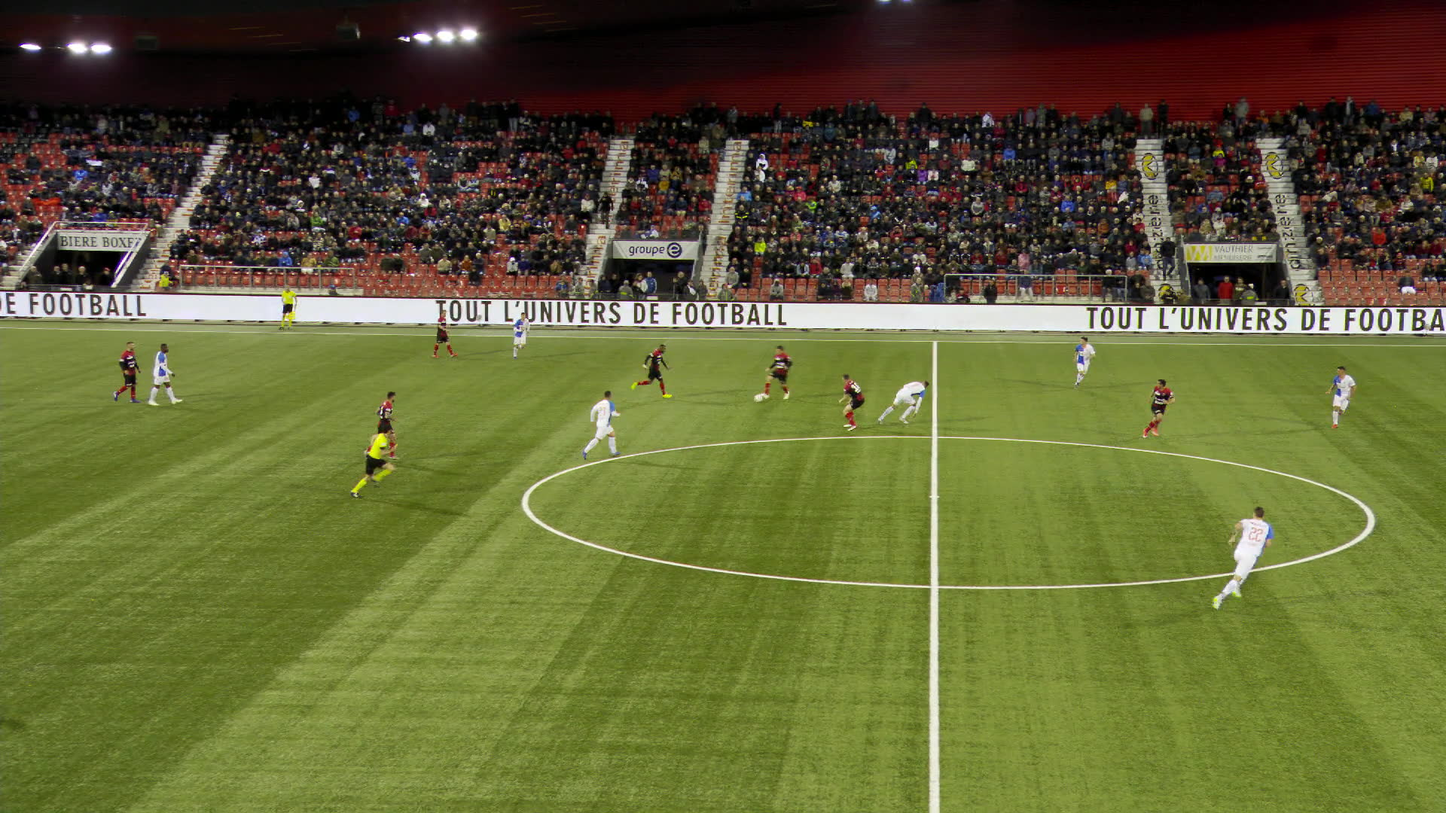ball: (754, 394, 762, 402)
player: (1215, 507, 1275, 604), (581, 391, 621, 458), (1140, 379, 1176, 440), (881, 381, 930, 425), (151, 343, 183, 405), (365, 393, 395, 459), (111, 340, 142, 403), (638, 345, 670, 399), (1332, 364, 1360, 425), (768, 345, 798, 400), (841, 373, 868, 429), (1073, 336, 1098, 389), (434, 309, 456, 358), (511, 309, 532, 358)
referee: (339, 422, 396, 495), (279, 284, 298, 330)
